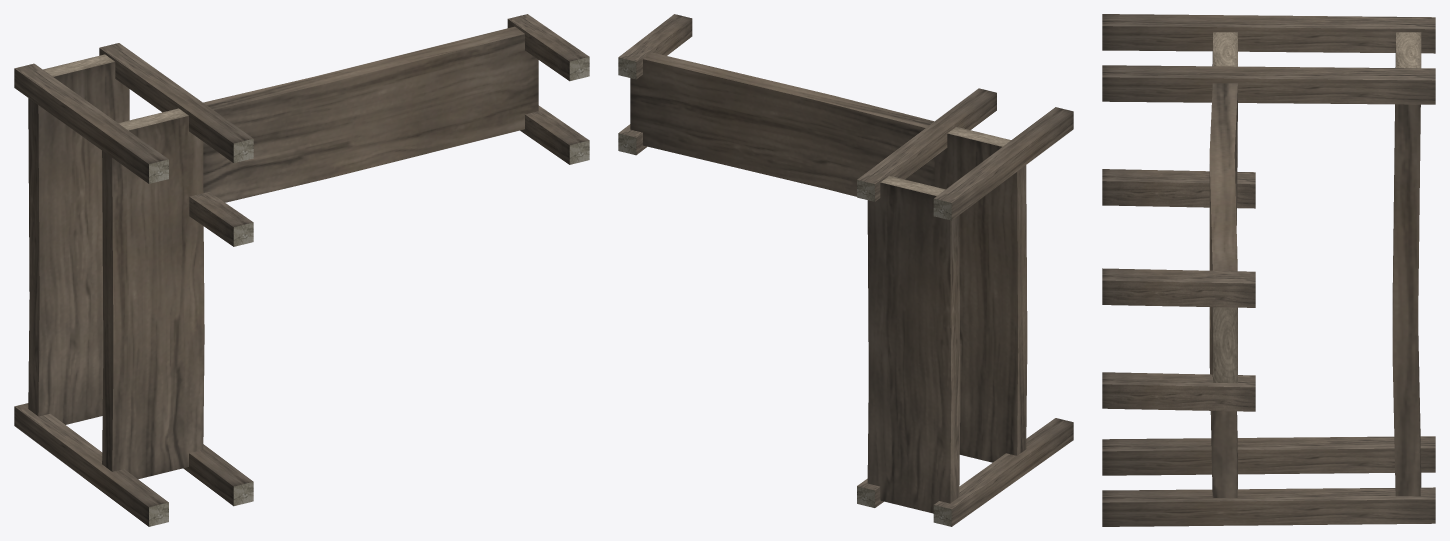
File: Counter_Corner_L_B.fbx
The picture shows the model from 3 angles, left to right: view 1: azimuth 30°, elevation 25°; view 2: azimuth 150°, elevation 25°; view 3: azimuth 270°, elevation 25°; orthographic projection. The views are drawn at different scales.
Parts seen in each view (by area): view 1: Counter_Corner_L_B; view 2: Counter_Corner_L_B; view 3: Counter_Corner_L_B.
Boxes of the visible parts, x1,y1,x2,y2 form: Counter_Corner_L_B: (14, 14, 589, 526); Counter_Corner_L_B: (618, 14, 1073, 526); Counter_Corner_L_B: (1102, 14, 1435, 526).
Bounding box in the file's own units: 4.29 × 3.37 × 2.27.
